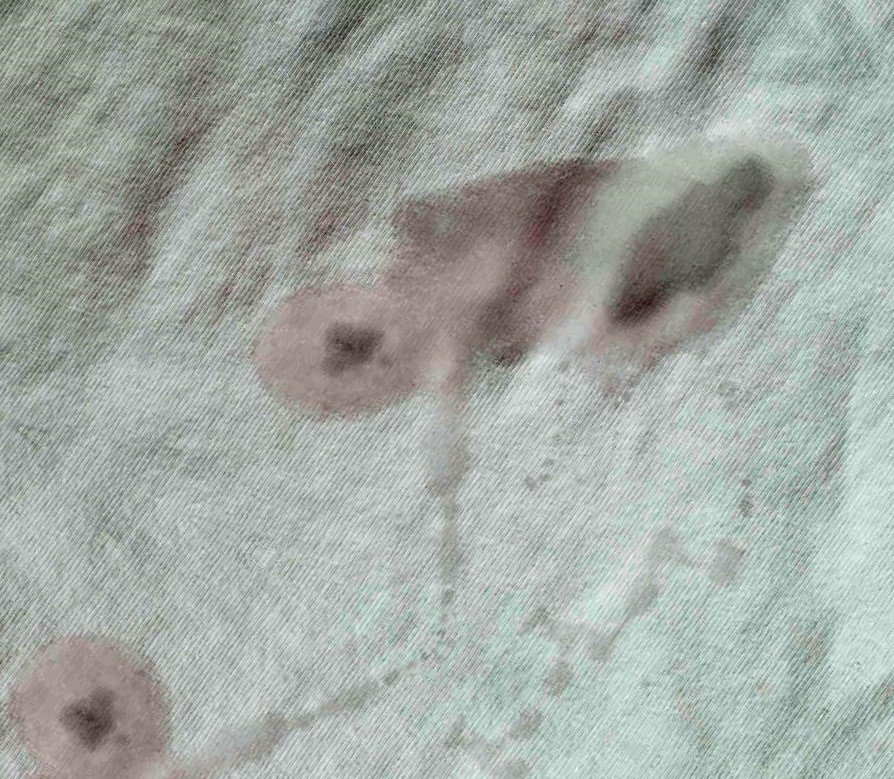stain: (240, 126, 825, 431), (1, 626, 192, 779)
